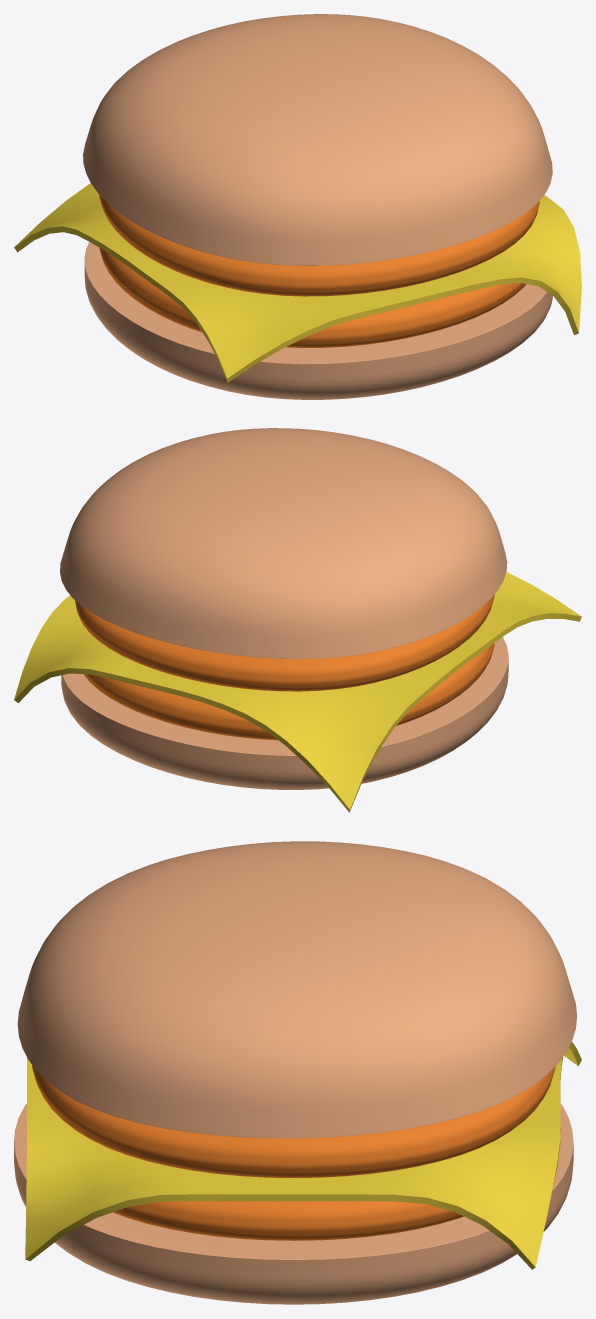
The model's file is burger.glb.
3 views of the same model, one above another, from view 1: azimuth 30°, elevation 25°; view 2: azimuth 150°, elevation 25°; view 3: azimuth 270°, elevation 25° (orthographic). The views are drawn at different scales.
Visible parts, largest first — view 1: Cube.006, Plane, Cube, Cube.004, Cube.003; view 2: Cube.006, Plane, Cube, Cube.004, Cube.003; view 3: Cube.006, Plane, Cube, Cube.004, Cube.003.
Boxes of the visible parts, x1,y1,x2,y2 form: Cube.006: (83,14,552,265); Plane: (14,183,581,382); Cube: (84,242,552,399); Cube.004: (99,195,539,296); Cube.003: (99,248,525,347); Cube.006: (60,428,507,658); Plane: (14,572,581,812); Cube: (61,637,508,789); Cube.004: (75,594,494,691); Cube.003: (83,643,494,740); Cube.006: (17,841,576,1138); Plane: (25,1042,581,1269); Cube: (14,1103,573,1304); Cube.004: (32,1065,555,1177); Cube.003: (113,1201,463,1240).
Size of the model in its own units: 6.05 by 3.83 by 6.09.
